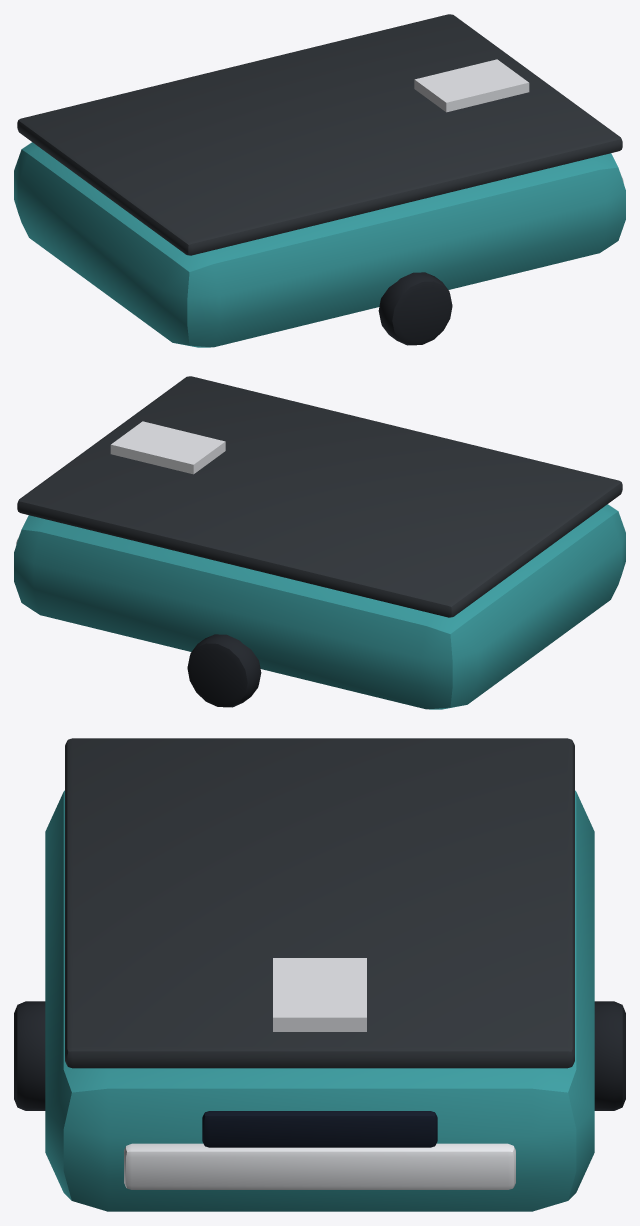
File: amr.glb
The picture shows the model from 3 angles, top to bottom: view 1: azimuth 30°, elevation 25°; view 2: azimuth 150°, elevation 25°; view 3: azimuth 270°, elevation 25°; orthographic projection. The views are drawn at different scales.
Parts seen in each view (by area): view 1: lift, body; view 2: lift, body; view 3: lift, body.
Boxes of the visible parts, box(x1,y1,x2,y2) form: lift: box(17, 14, 622, 255); body: box(14, 142, 625, 347); lift: box(17, 376, 622, 617); body: box(14, 504, 625, 709); lift: box(65, 738, 574, 1068); body: box(14, 790, 625, 1211).
Size of the model in its own units: 1.02 by 0.32 by 0.78.
